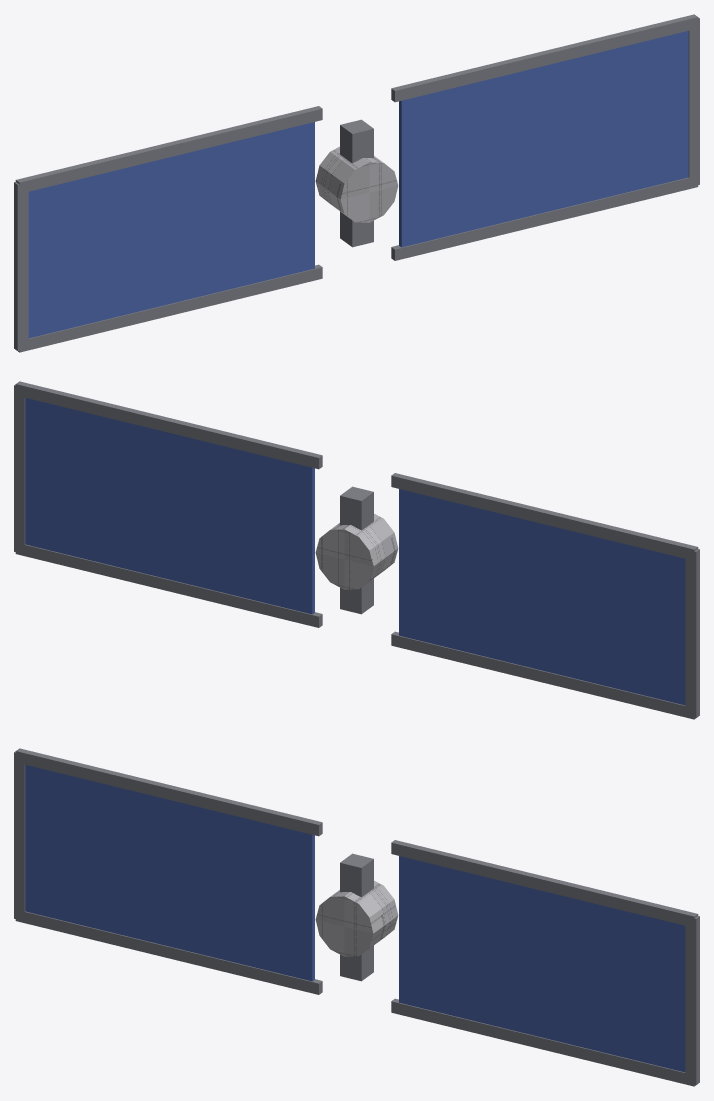
File: station_solar_array.glb
3 renders of one model, top to bottom at view 1: azimuth 30°, elevation 25°; view 2: azimuth 150°, elevation 25°; view 3: azimuth 330°, elevation 25°, orthographic.
Visible parts, largest first — view 1: Merged_SolarCell, Merged_StationDark, Merged_StationHull; view 2: Merged_SolarCell, Merged_StationDark, Merged_StationHull; view 3: Merged_SolarCell, Merged_StationDark, Merged_StationHull.
Boxes of the visible parts, left/top/right/bottom form: Merged_SolarCell: left=28, top=31, right=688, bottom=338; Merged_StationDark: left=14, top=14, right=699, bottom=352; Merged_StationHull: left=315, top=146, right=398, bottom=222; Merged_SolarCell: left=25, top=398, right=685, bottom=705; Merged_StationDark: left=14, top=381, right=699, bottom=719; Merged_StationHull: left=315, top=513, right=398, bottom=589; Merged_SolarCell: left=25, top=765, right=685, bottom=1072; Merged_StationDark: left=14, top=748, right=699, bottom=1086; Merged_StationHull: left=315, top=880, right=398, bottom=956.
Size of the model in its own units: 18.9 by 4.5 by 1.2.
Materials: 3 (1 with a texture image).
